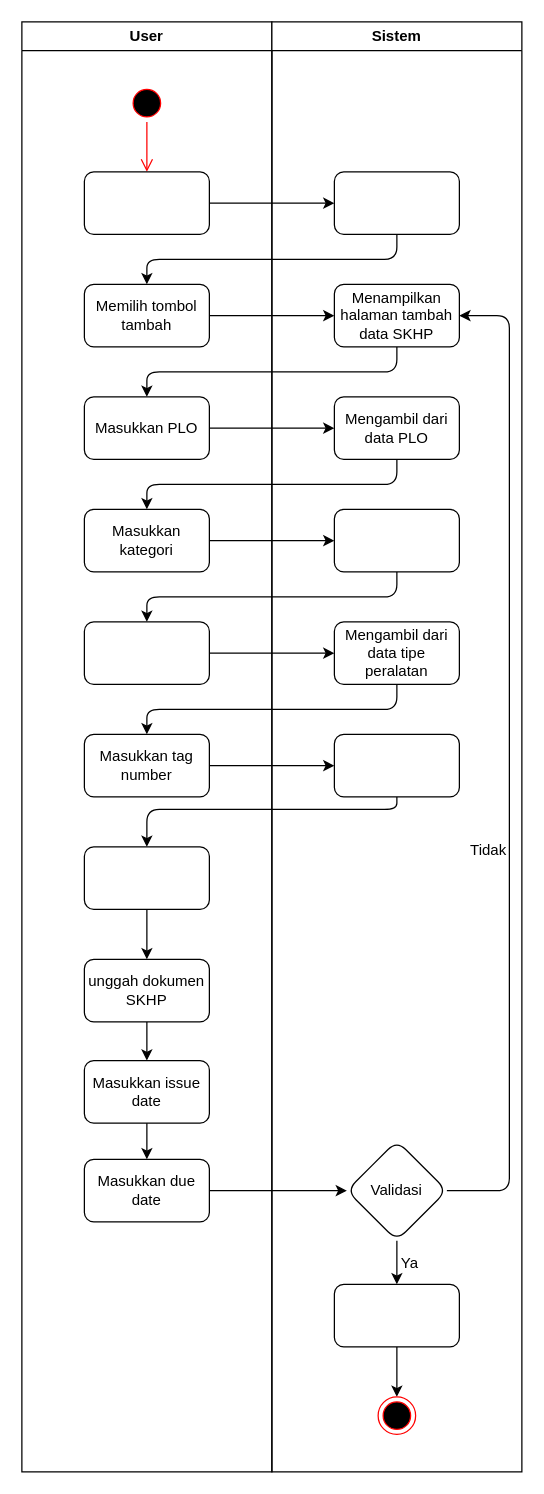
Image size: 544x1494. Some labels were removed from this diagram. Here are the shapes that lost their labels. From the top down, the centre of each, then its label:
At (146,202): "Membuka halaman SKHP".
At (396,202): "Menampilkan halaman SKHP".
At (396,540): "Mengambil dari data kategori peralatan".
At (146,652): "Masukkan tipe".
At (396,765): "Mengambil data dari tag number".
At (146,877): "Masukkan no.SKHP".
At (396,1315): "Data berhasil tersimpan".
